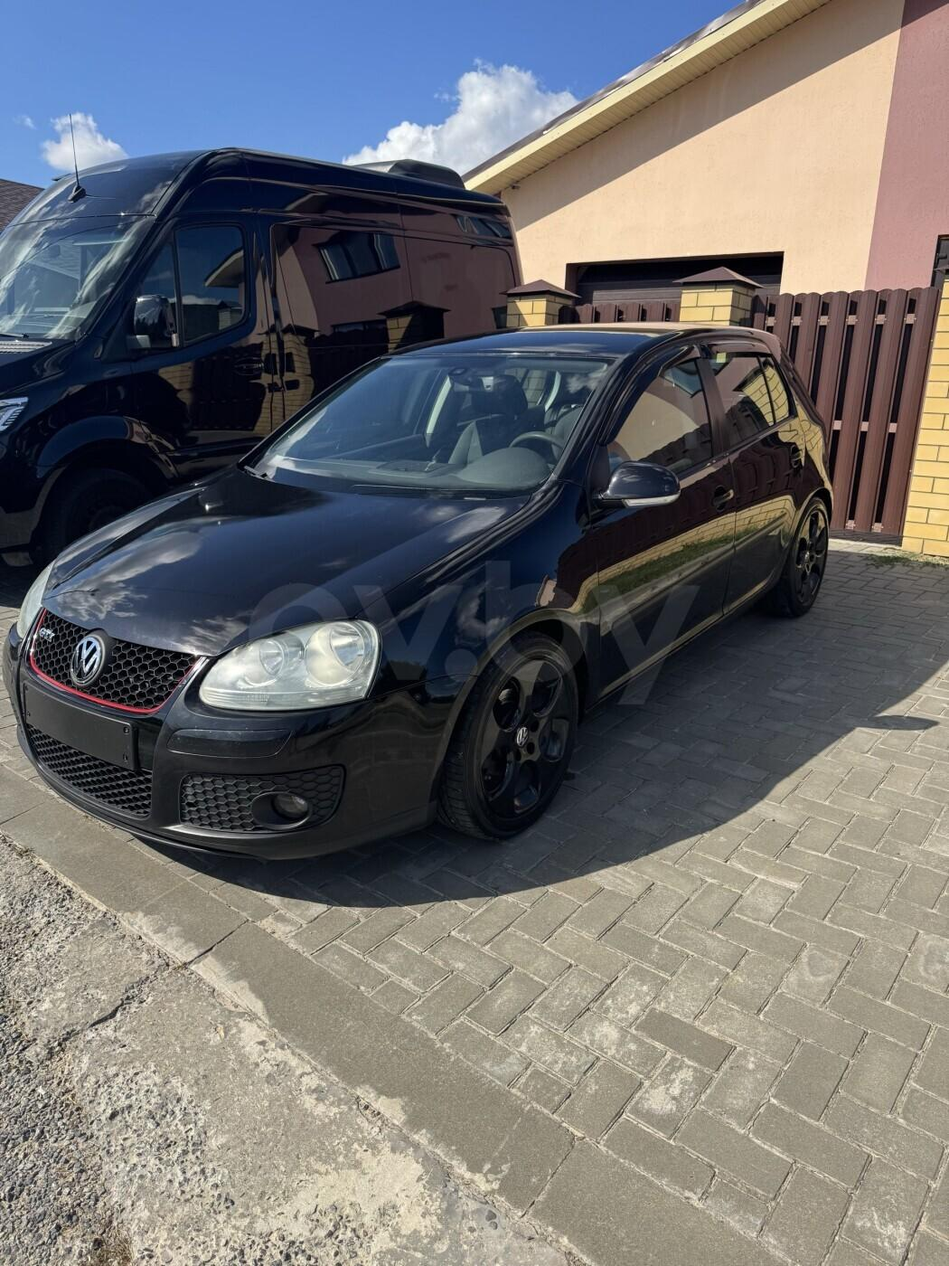Golf_2003-2009: (7, 312, 849, 863)
